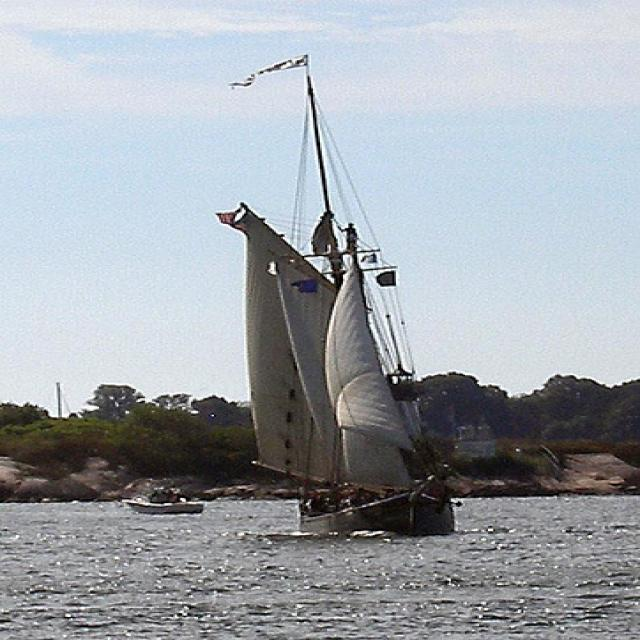Ship: (204, 70, 470, 547)
